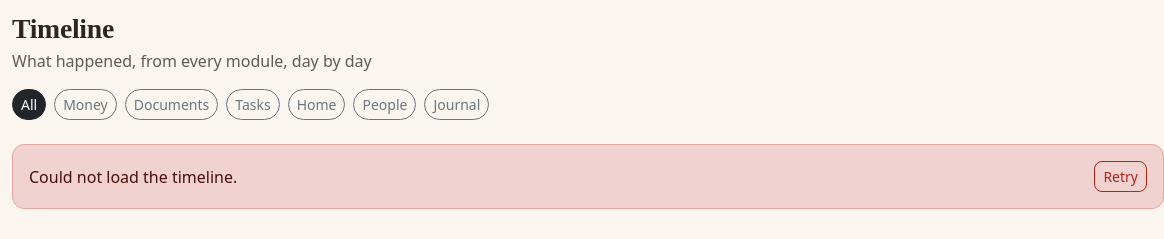
TimelinePageComponent › shows an error with a retry when the first page fails
The width and height of the screenshot is (1164, 239).
Click the button "Retry". click: [1121, 177]
box: [1094,161,1147,192]
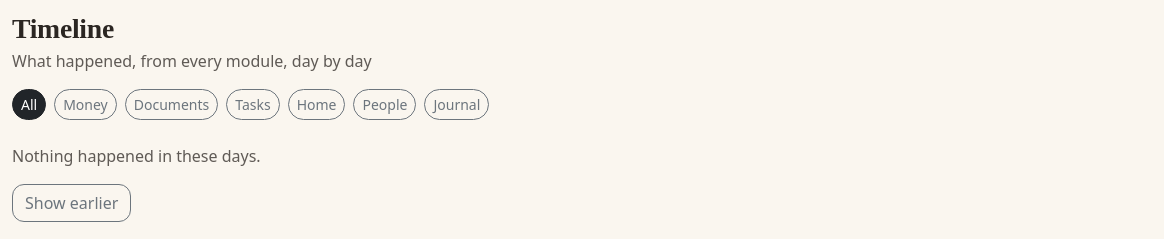
Result: the text with test id "empty" reads "Nothing happened in these days." at [12,145,261,167]
